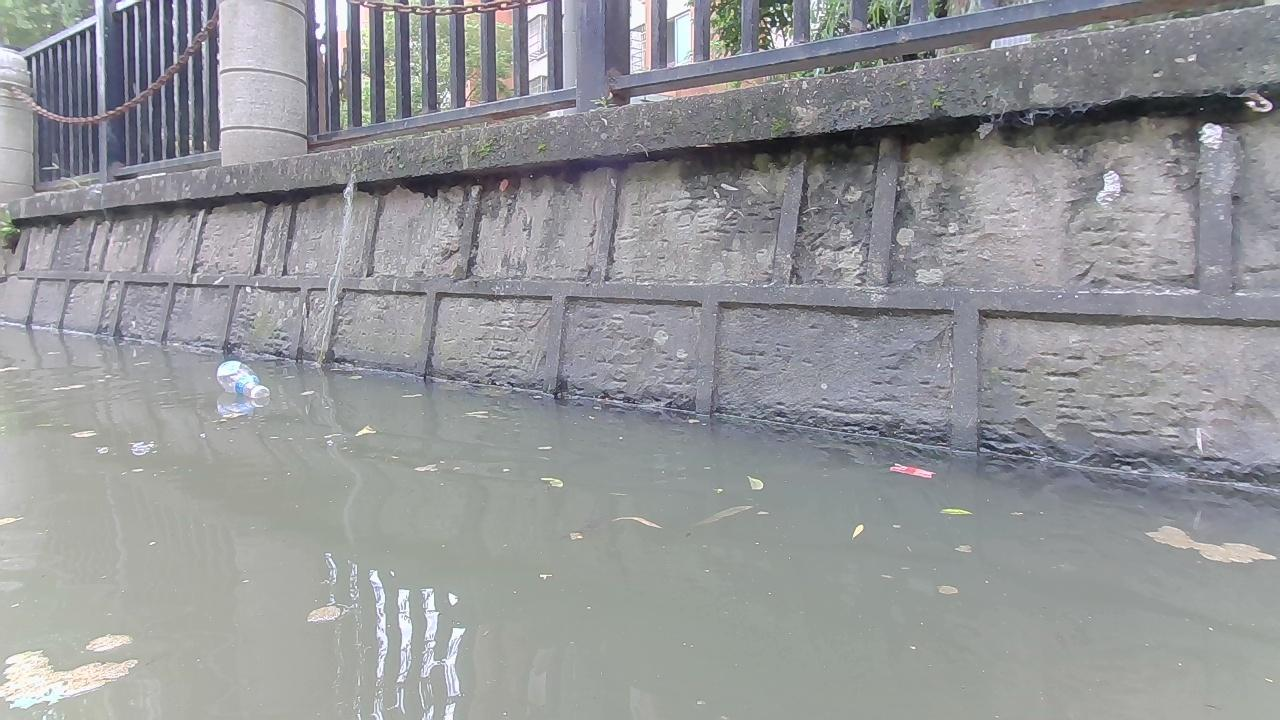bottle: (215, 359, 268, 400)
